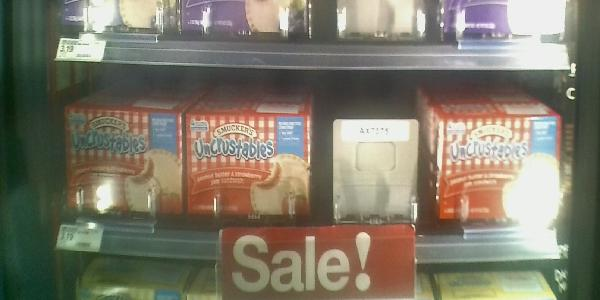icecream: (187, 105, 319, 230), (436, 110, 560, 231), (58, 104, 184, 221)
